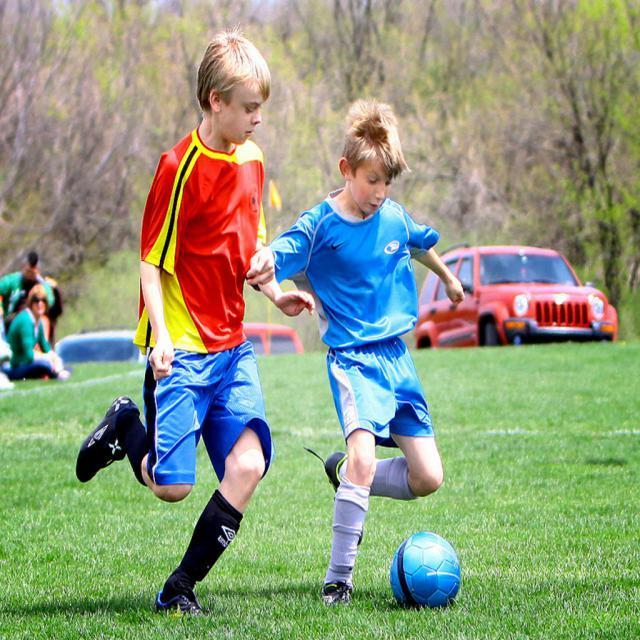football: (388, 528, 473, 613)
